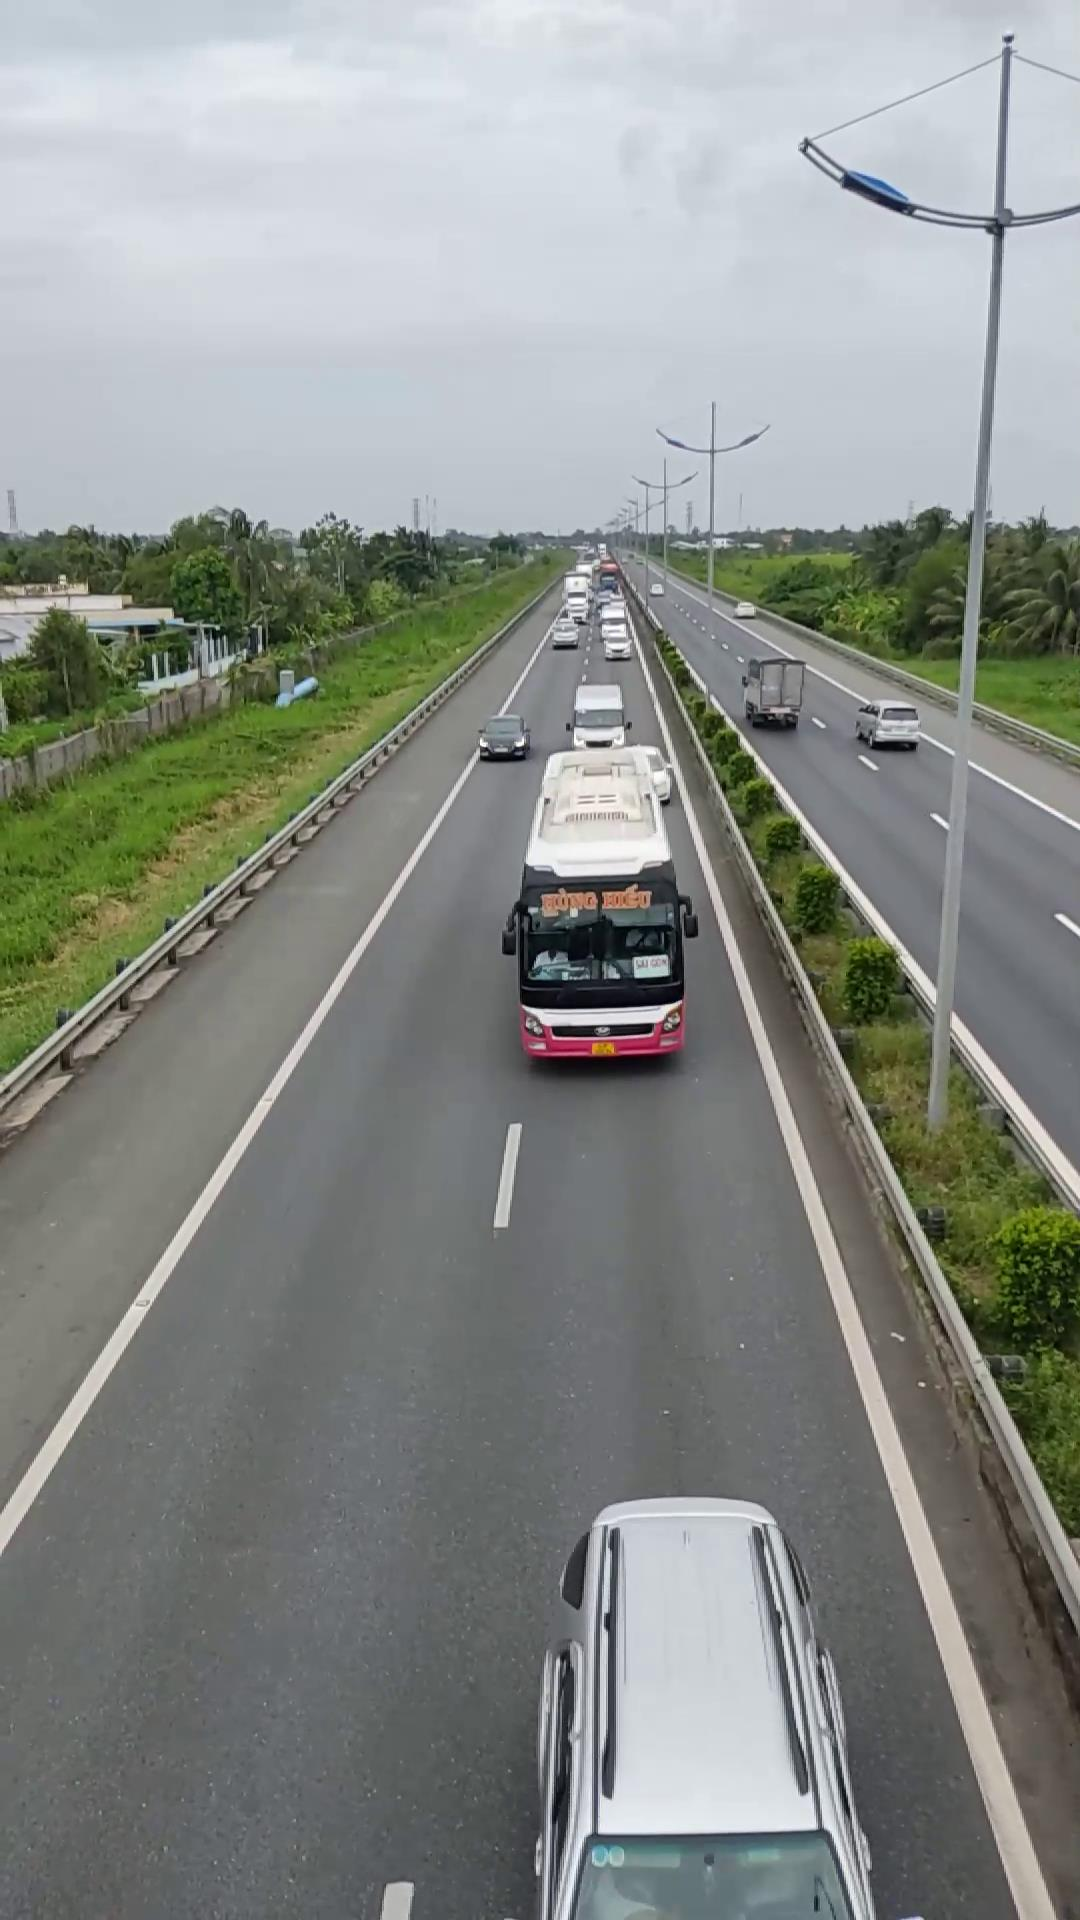bus: (502, 754, 694, 1067)
car: (527, 1493, 872, 1917)
truck: (740, 653, 804, 727)
